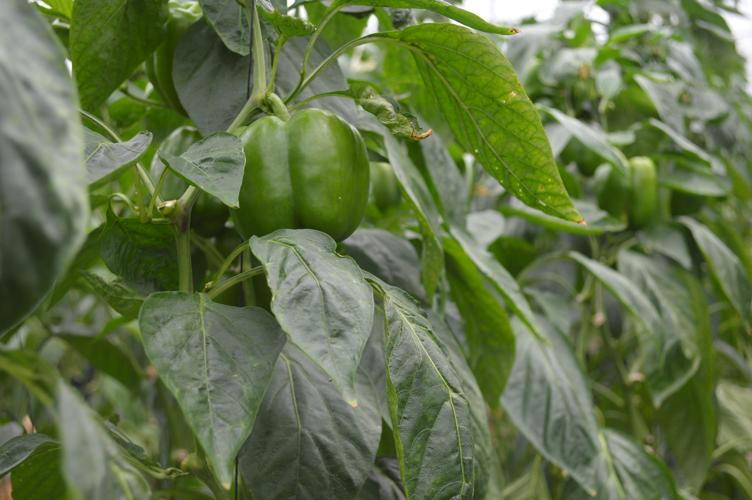BellPepper: (223, 107, 362, 249), (600, 154, 659, 226)
